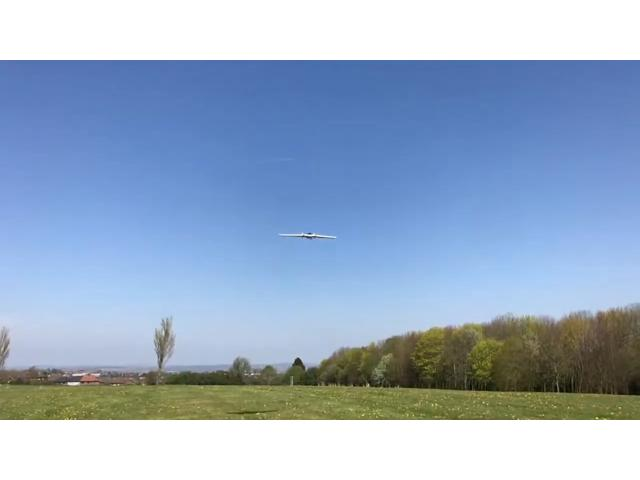Anti-Drone: (276, 230, 338, 240)
